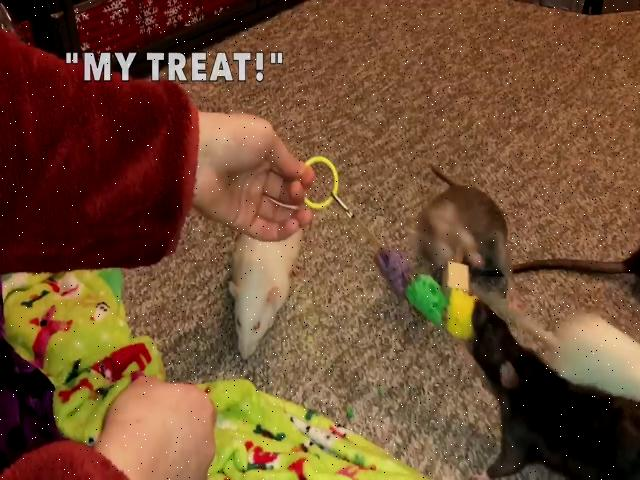Tikus: (470, 298, 628, 480), (412, 165, 528, 295), (222, 228, 306, 362)
